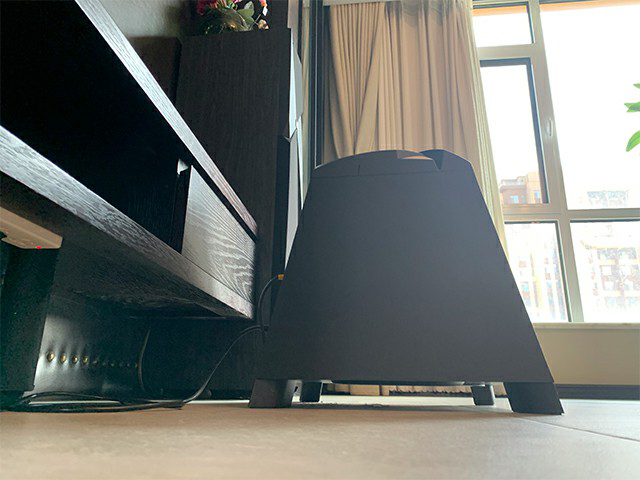cabinet: (1, 1, 261, 406)
wire: (1, 369, 216, 414)
